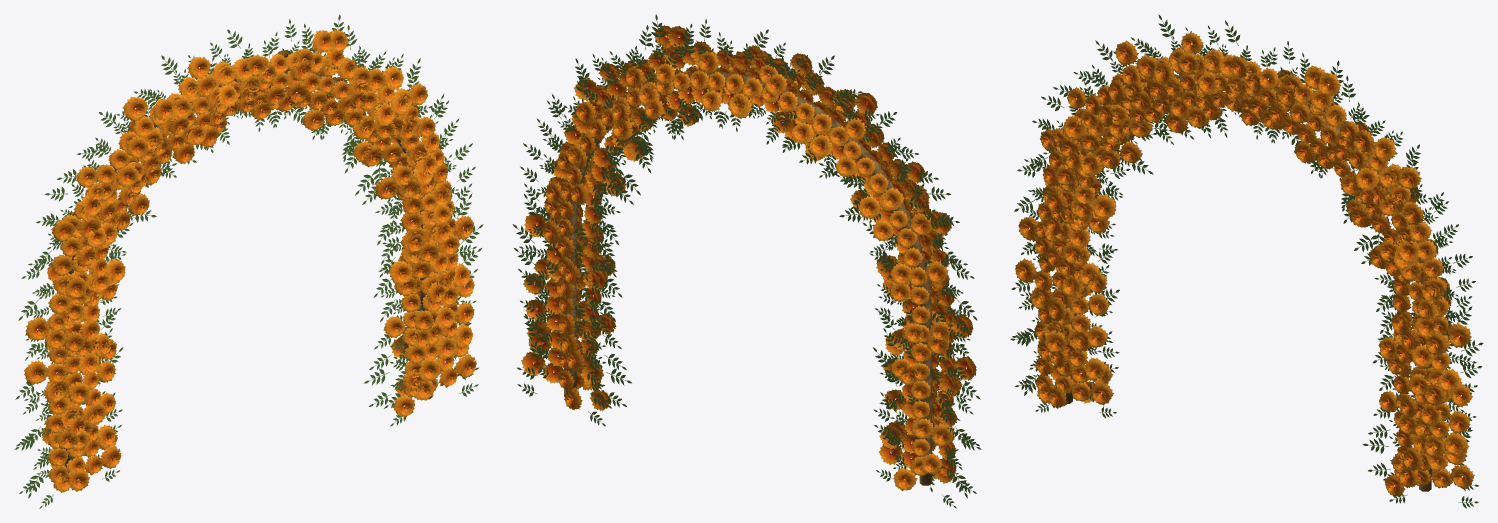
File: arco_cempasuchil.gltf
The picture shows the model from 3 angles, left to right: view 1: azimuth 30°, elevation 25°; view 2: azimuth 150°, elevation 25°; view 3: azimuth 330°, elevation 25°; orthographic projection.
Visible parts, largest first — view 1: arco_cempasuchil_optimizado; view 2: arco_cempasuchil_optimizado; view 3: arco_cempasuchil_optimizado.
Boxes of the visible parts, x1,y1,x2,y2 form: arco_cempasuchil_optimizado: (14, 14, 483, 508); arco_cempasuchil_optimizado: (512, 14, 981, 508); arco_cempasuchil_optimizado: (1010, 14, 1483, 508).
Size of the model in its own units: 3.43 by 3.06 by 0.3394.
Materials: 3 (3 with a texture image).
